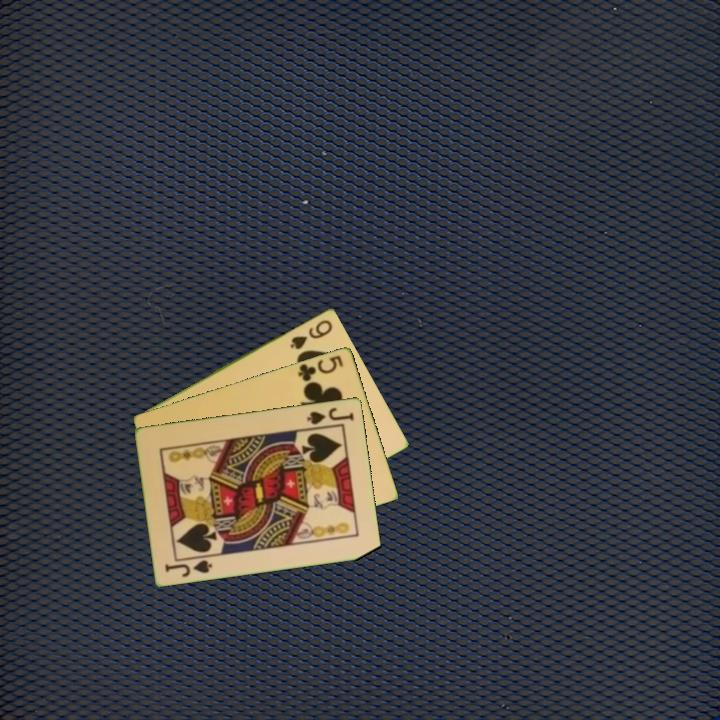5c: (294, 351, 346, 384)
9s: (286, 316, 336, 352)
Js: (162, 553, 215, 580), (304, 404, 357, 427)
